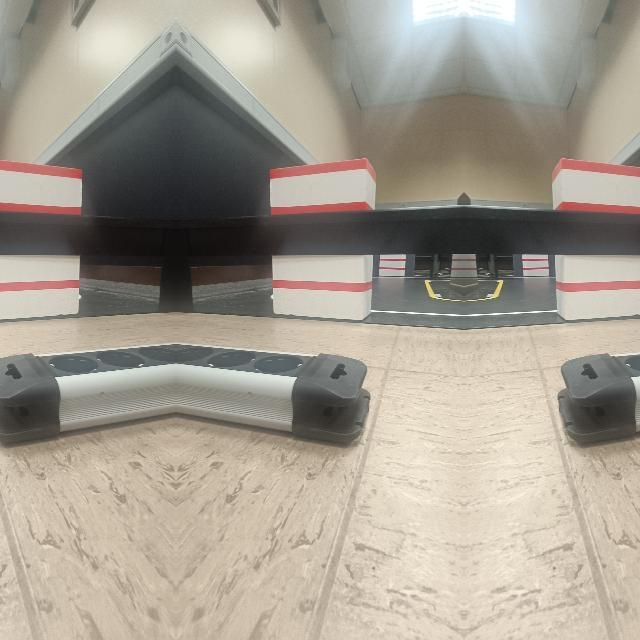obstacle: (175, 338, 368, 448), (0, 338, 174, 447), (558, 338, 640, 447)
